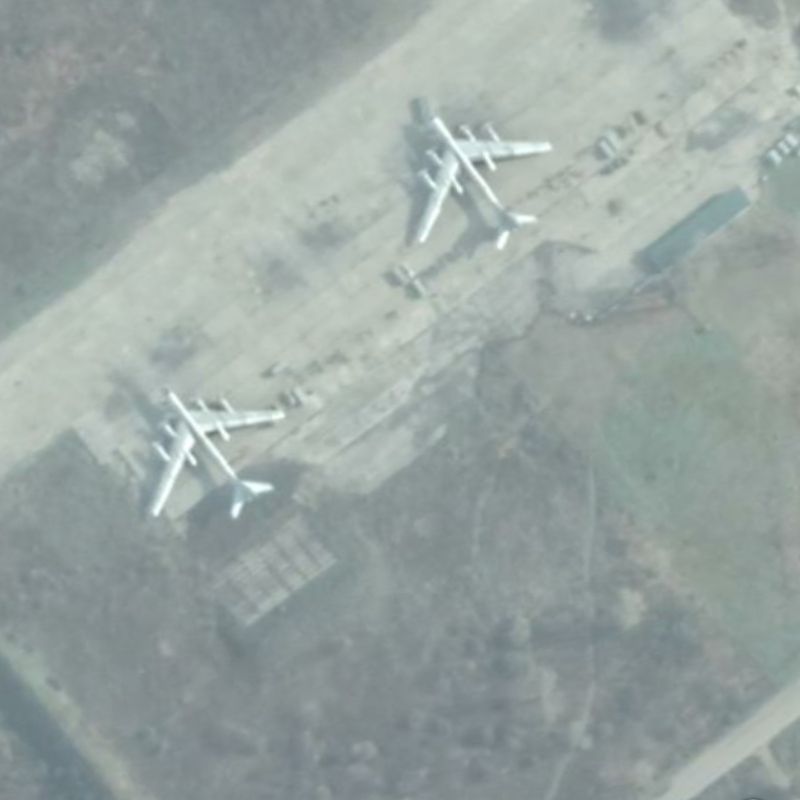A17: (412, 113, 555, 253), (145, 386, 288, 523)
